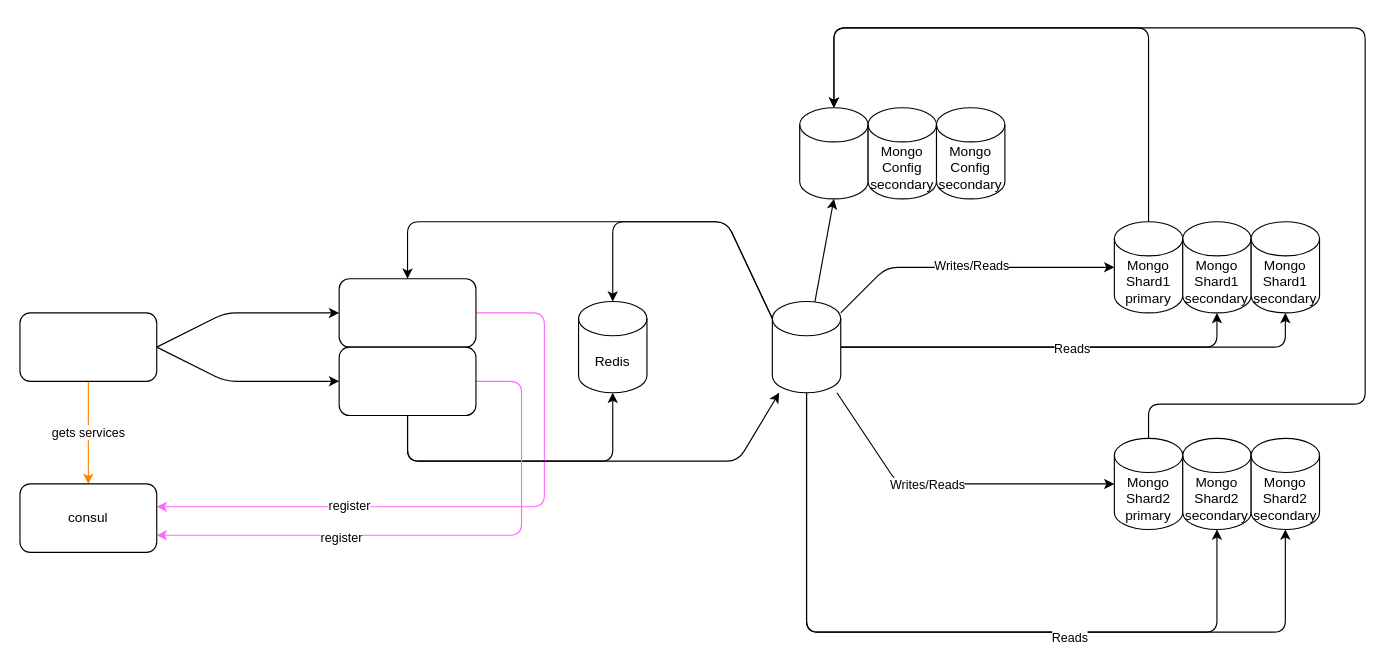
Some shapes in this 1394 by 665 pixel diagram are drawn without their labels. The centre of each missing label's shape, as x and y in pixels:
api-gateway: the point at 88,346
Mongo Config primary: the point at 833,153
Mongos Router: the point at 806,346
pymongo-api-1: the point at 407,312
pymongo-api-2: the point at 407,381
